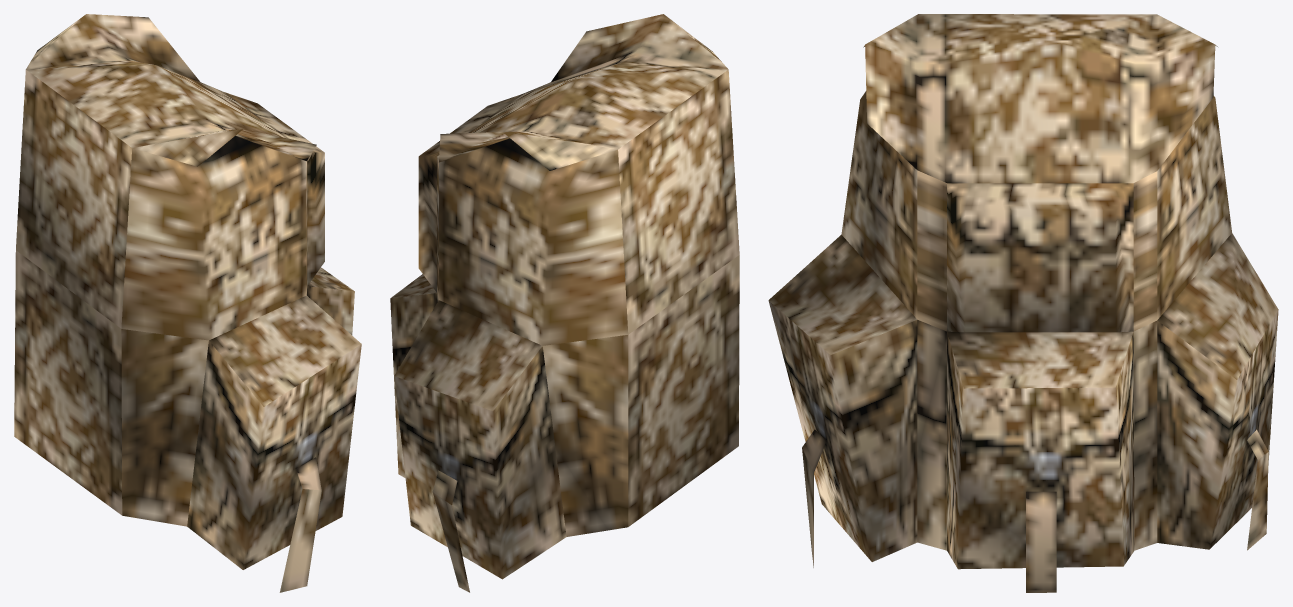
File: UK_BackpackLarge.glb
3 renders of one model, left to right at view 1: azimuth 30°, elevation 25°; view 2: azimuth 150°, elevation 25°; view 3: azimuth 270°, elevation 25°, orthographic. The views are drawn at different scales.
Visible parts, largest first — view 1: UK_BACKPACKLARGE; view 2: UK_BACKPACKLARGE; view 3: UK_BACKPACKLARGE.
Part boxes in pixels (bbox=[...]): UK_BACKPACKLARGE: bbox=[14, 14, 361, 592]; UK_BACKPACKLARGE: bbox=[390, 14, 739, 592]; UK_BACKPACKLARGE: bbox=[768, 14, 1278, 592].
Size of the model in its own units: 0.34 by 0.561 by 0.517.
1 material, 1 textured.
